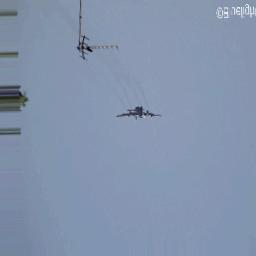Airplane: (114, 104, 163, 120)
